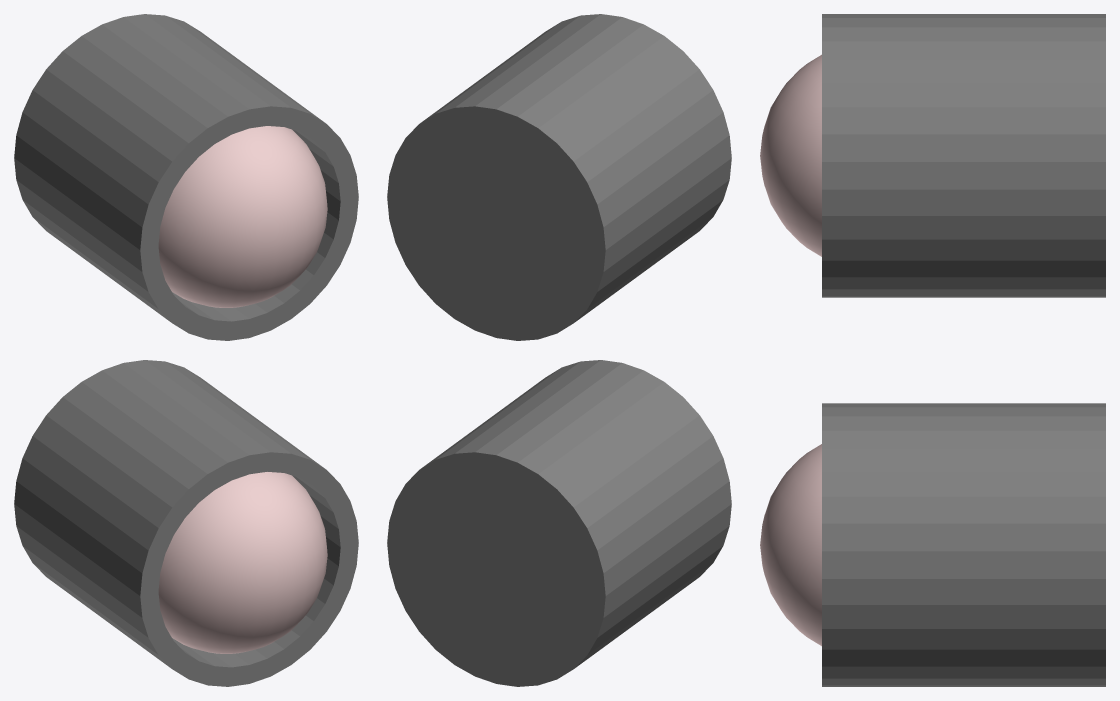
File: doorlights.fbx
3 views of the same model, side by side, from view 1: azimuth 30°, elevation 25°; view 2: azimuth 150°, elevation 25°; view 3: azimuth 270°, elevation 25° (orthographic). The views are drawn at different scales.
Visible parts, largest first — view 1: Cylinder.007, Cylinder.008; view 2: Cylinder.007, Cylinder.008; view 3: Cylinder.007, Cylinder.008.
Boxes of the visible parts, x1,y1,x2,y2 form: Cylinder.007: [14, 14, 358, 340]; Cylinder.008: [14, 360, 358, 686]; Cylinder.007: [387, 14, 731, 340]; Cylinder.008: [387, 360, 731, 686]; Cylinder.007: [760, 14, 1105, 297]; Cylinder.008: [760, 403, 1105, 686].
Size of the model in its own units: 0.1082 by 0.2719 by 0.1318.
